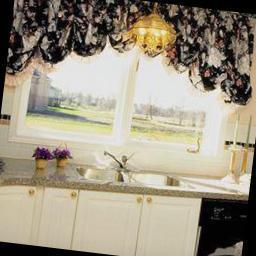Lavaplatos: (64, 138, 197, 201)
